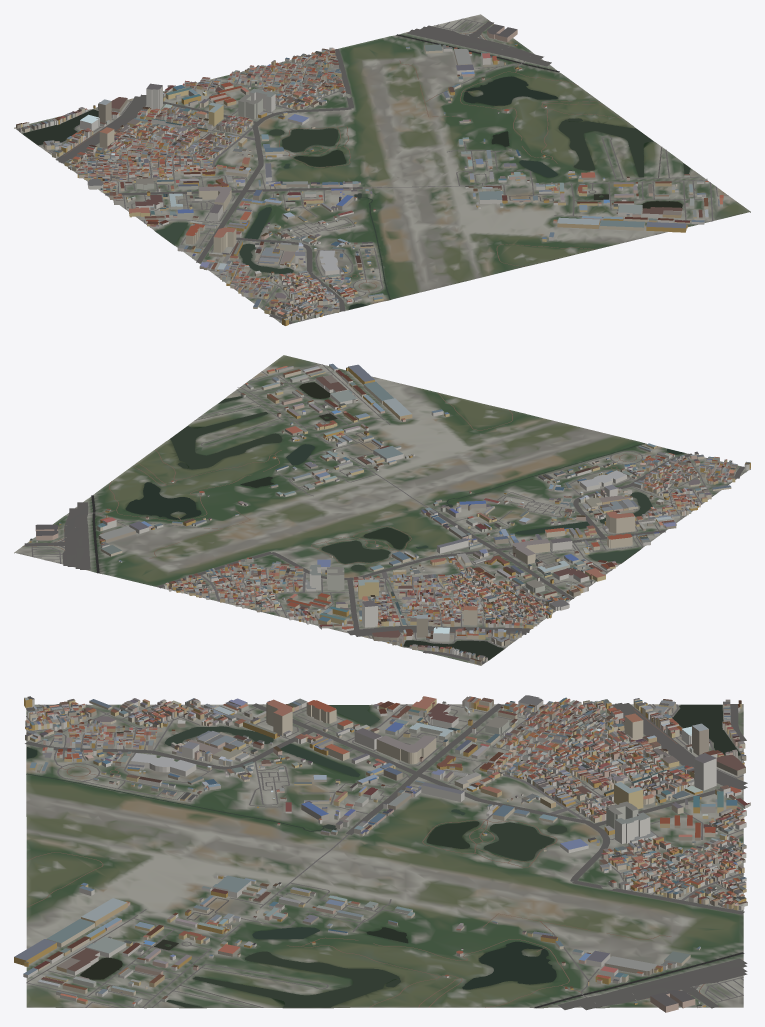
3 views of the same model, one above another, from view 1: azimuth 30°, elevation 25°; view 2: azimuth 150°, elevation 25°; view 3: azimuth 270°, elevation 25° (orthographic). The views are drawn at different scales.
Visible parts, largest first — view 1: ground, buildings, roads, water; view 2: ground, buildings, roads, water; view 3: ground, buildings, roads, water.
Boxes of the visible parts, x1,y1,x2,y2 form: ground: [14, 14, 750, 324]; buildings: [16, 24, 723, 325]; roads: [16, 18, 728, 324]; water: [22, 34, 690, 309]; ground: [14, 355, 750, 665]; buildings: [29, 363, 750, 664]; roads: [23, 364, 746, 664]; water: [91, 382, 685, 660]; ground: [26, 704, 743, 1008]; buildings: [14, 695, 750, 1012]; roads: [25, 703, 747, 1010]; water: [26, 704, 744, 1008].
Size of the model in its own units: 1443 by 65.28 by 1441.
